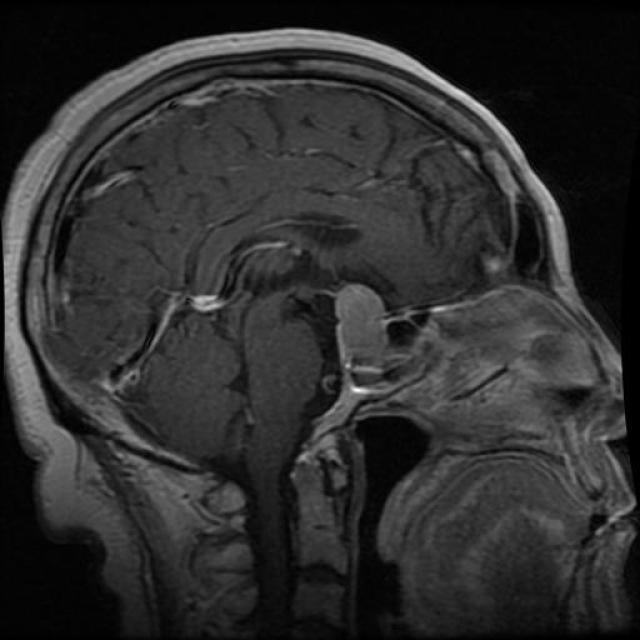pituitary: (326, 276, 400, 372)
